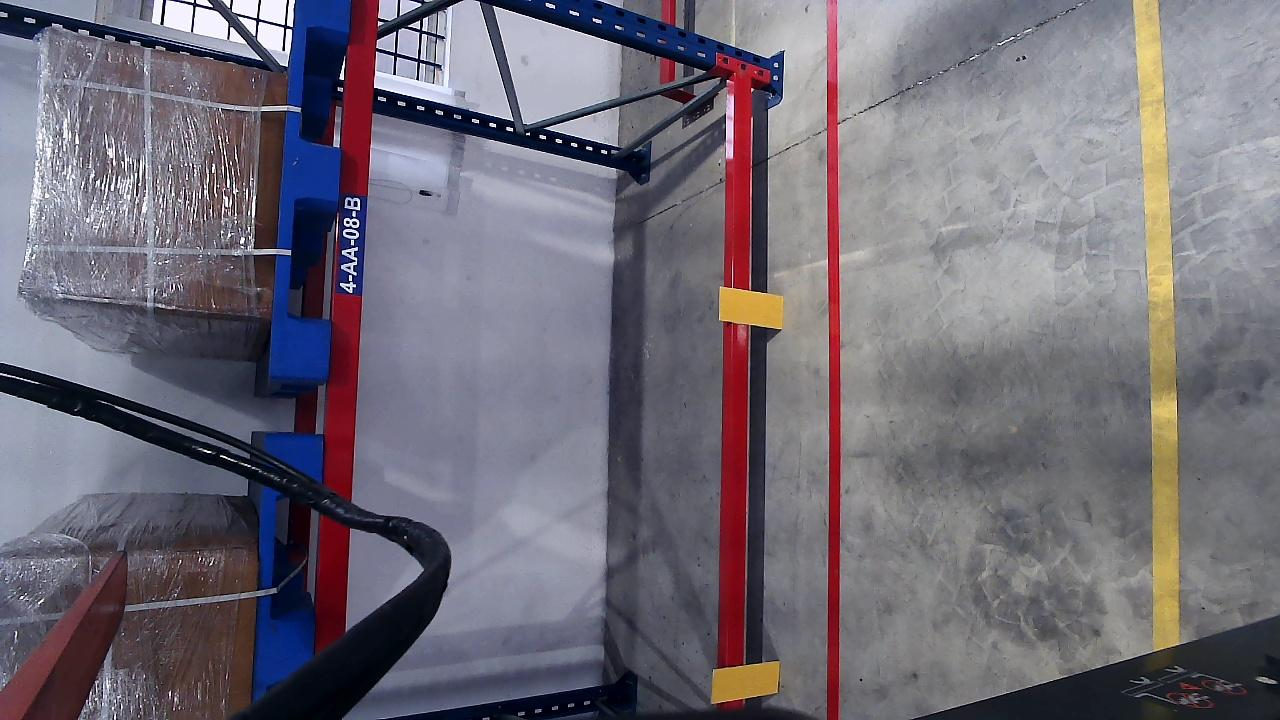h_rack: (320, 0, 380, 713), (725, 75, 757, 716)
orange_strip: (711, 660, 780, 702), (719, 285, 784, 328)
red_line: (822, 0, 844, 720)
small_pallet: (269, 0, 351, 378), (245, 428, 321, 720)
yellow_line: (1135, 0, 1181, 651)
